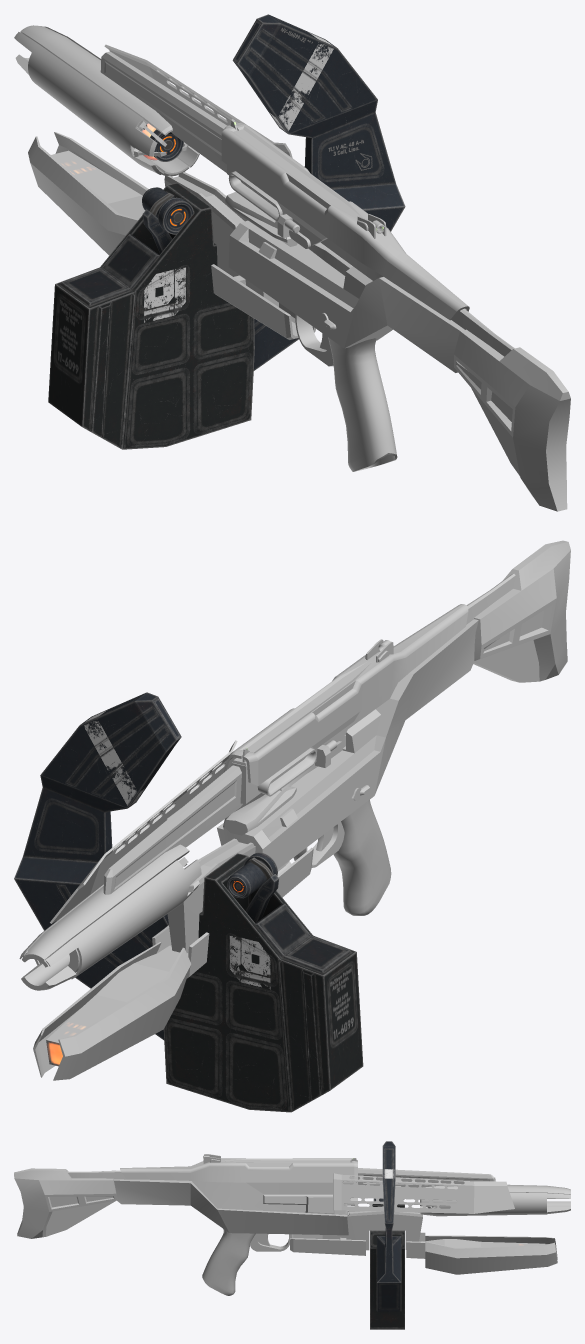
The picture shows the model from 3 angles, top to bottom: view 1: azimuth 30°, elevation 25°; view 2: azimuth 150°, elevation 25°; view 3: azimuth 270°, elevation 25°; orthographic projection. The views are drawn at different scales.
Parts seen in each view (by area): view 1: AR2, AR2_Mag, 18x35mm_Pulsed_Round; view 2: AR2, AR2_Mag; view 3: AR2, AR2_Mag.
Boxes of the visible parts, left/top/right/bottom form: AR2: left=14, top=25, right=570, bottom=511; AR2_Mag: left=48, top=14, right=405, bottom=449; 18x35mm_Pulsed_Round: left=150, top=129, right=183, bottom=161; AR2: left=19, top=540, right=570, bottom=1080; AR2_Mag: left=14, top=692, right=363, bottom=1112; AR2: left=14, top=1154, right=570, bottom=1295; AR2_Mag: left=370, top=1141, right=404, bottom=1329.
Size of the model in its own units: 0.2498 by 0.2787 by 0.7105.
